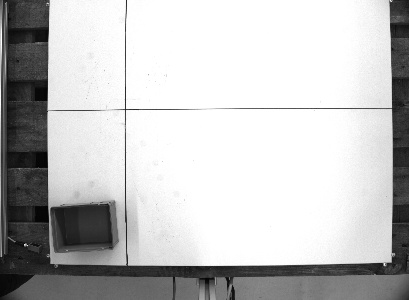klts: (48, 197, 119, 257)
